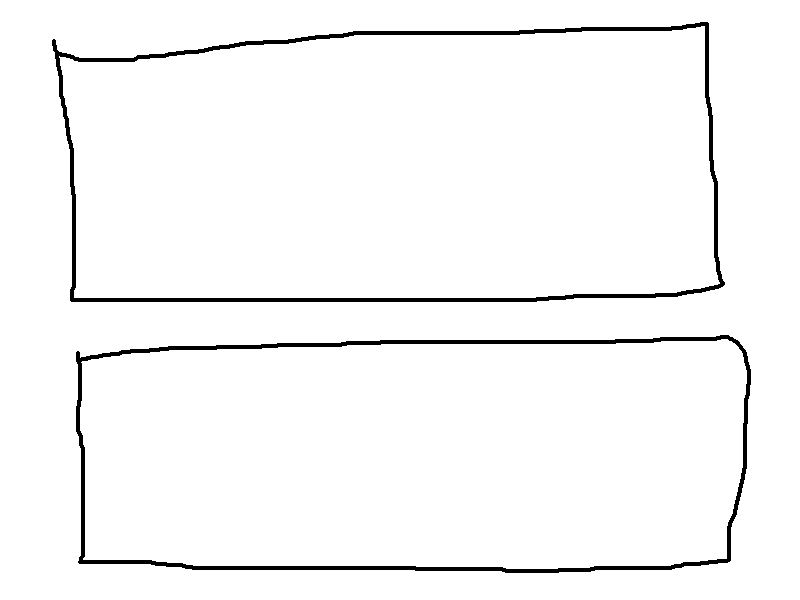rect: (46, 18, 727, 305), (63, 330, 757, 579)
